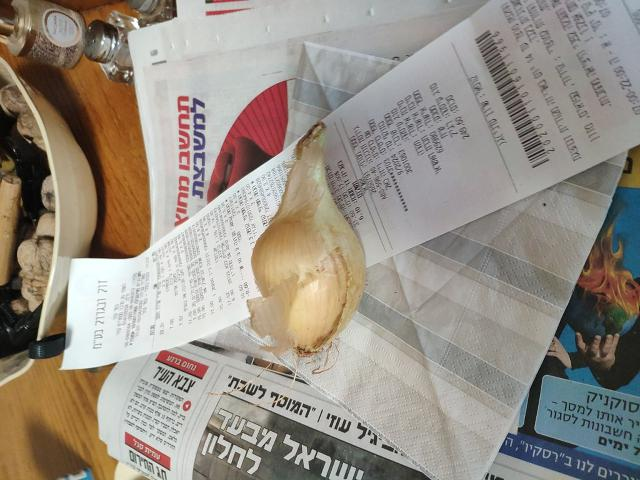onion: (264, 166, 359, 351)
